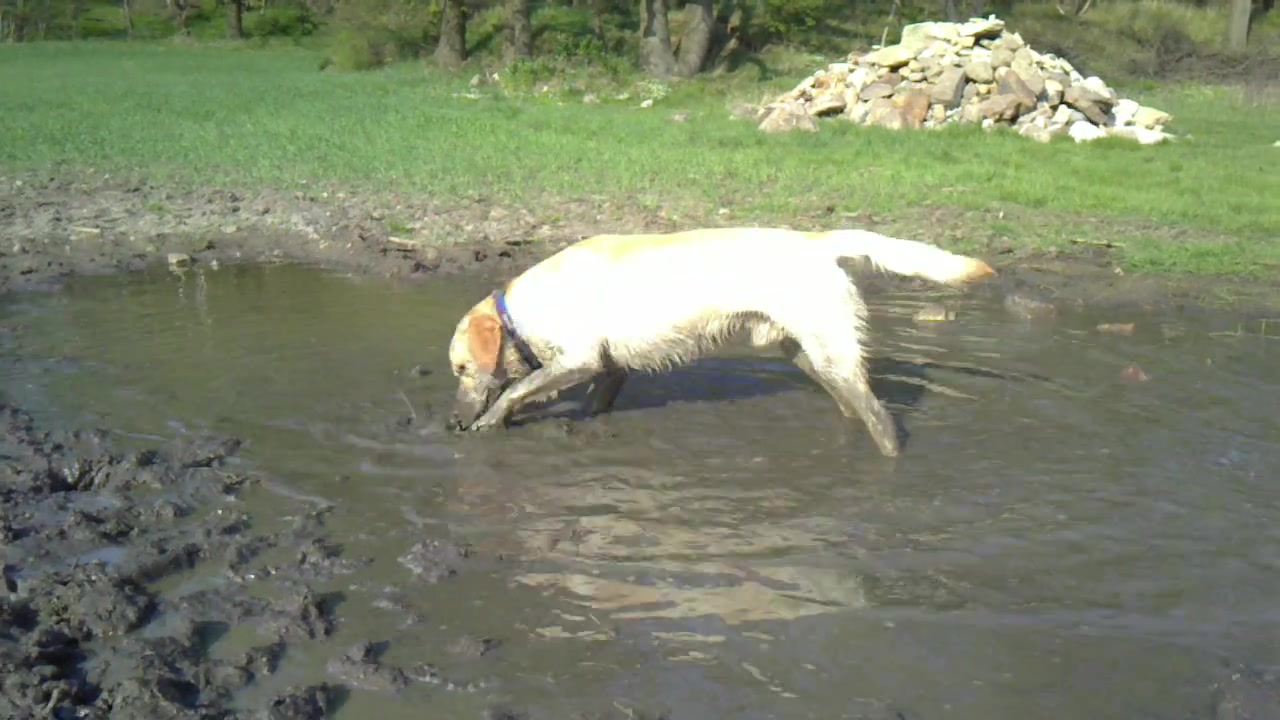dog: (446, 226, 1001, 463)
